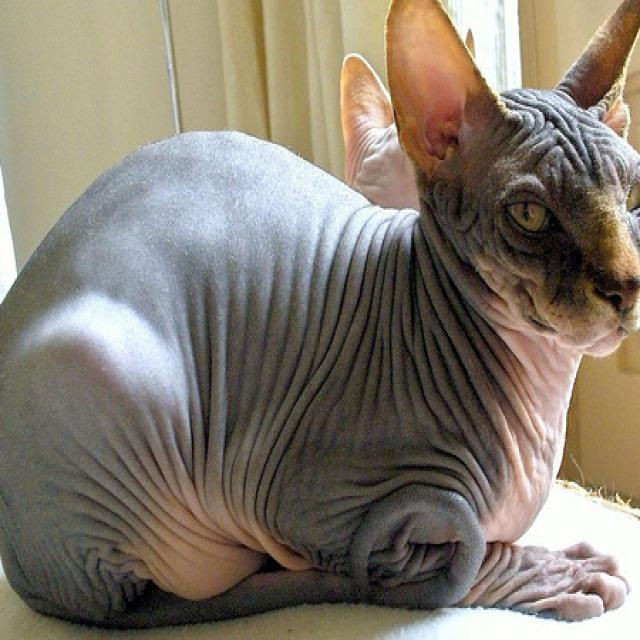Sphynx: (0, 0, 640, 636)
